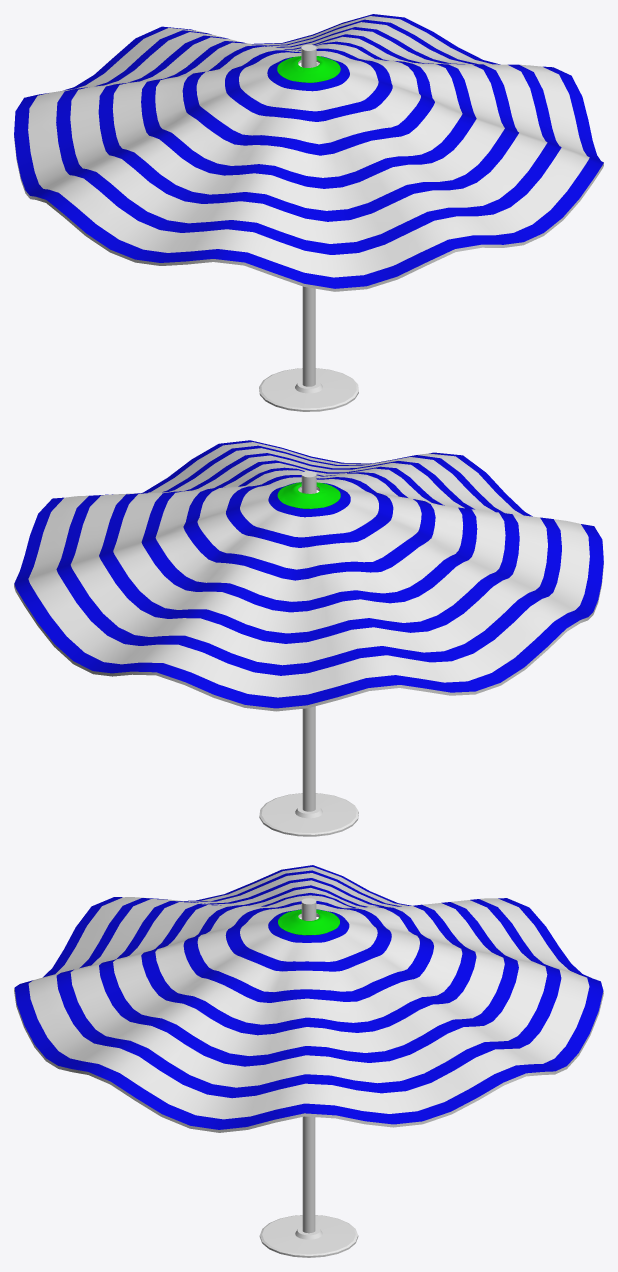
3 views of the same model, one above another, from view 1: azimuth 30°, elevation 25°; view 2: azimuth 150°, elevation 25°; view 3: azimuth 270°, elevation 25° (orthographic). The views are drawn at different scales.
Parts seen in each view (by area): view 1: Geode; view 2: Geode; view 3: Geode.
Part boxes in pixels (left/top/right/bottom): Geode: left=14, top=14, right=603, bottom=411; Geode: left=14, top=440, right=603, bottom=836; Geode: left=14, top=865, right=603, bottom=1257.
Bounding box in the file's own units: 91.67 × 57.59 × 91.7.
